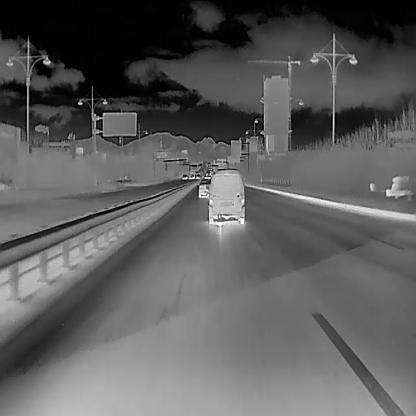car: (208, 168, 245, 225), (197, 178, 210, 198), (182, 172, 187, 179), (195, 174, 200, 179), (189, 174, 193, 179)
